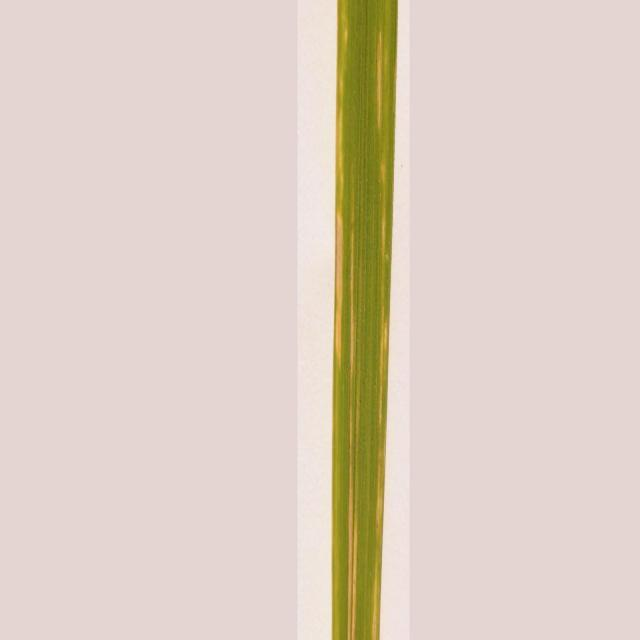leaf blight: (328, 1, 391, 636)
